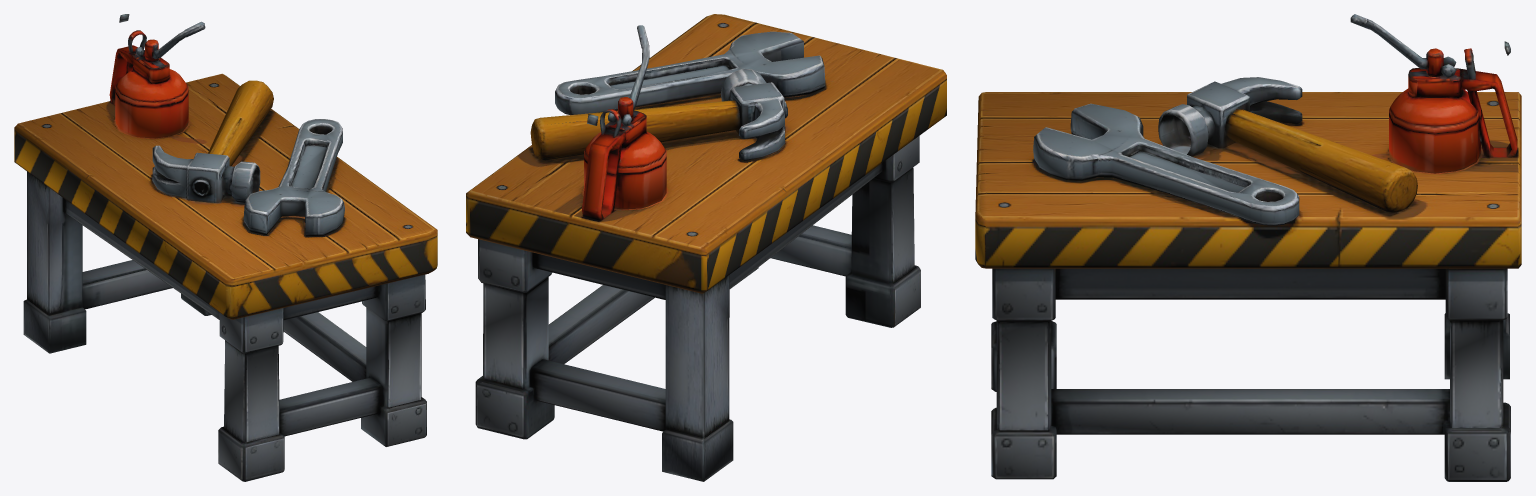
Rendered from workbench.glb.
The picture shows the model from 3 angles, left to right: view 1: azimuth 30°, elevation 25°; view 2: azimuth 150°, elevation 25°; view 3: azimuth 270°, elevation 25°; orthographic projection. The views are drawn at different scales.
Parts seen in each view (by area): view 1: tripo_node_17828709-db09-40b9-b82a-8294e19d280e; view 2: tripo_node_17828709-db09-40b9-b82a-8294e19d280e; view 3: tripo_node_17828709-db09-40b9-b82a-8294e19d280e.
Part boxes in pixels (box(x1,y1,x2,y2)): tripo_node_17828709-db09-40b9-b82a-8294e19d280e: box(14, 14, 437, 481); tripo_node_17828709-db09-40b9-b82a-8294e19d280e: box(466, 14, 946, 481); tripo_node_17828709-db09-40b9-b82a-8294e19d280e: box(975, 14, 1521, 481).
Bounding box in the file's own units: 0.8337 × 1.15 × 1.37.
1 material, 1 textured.
